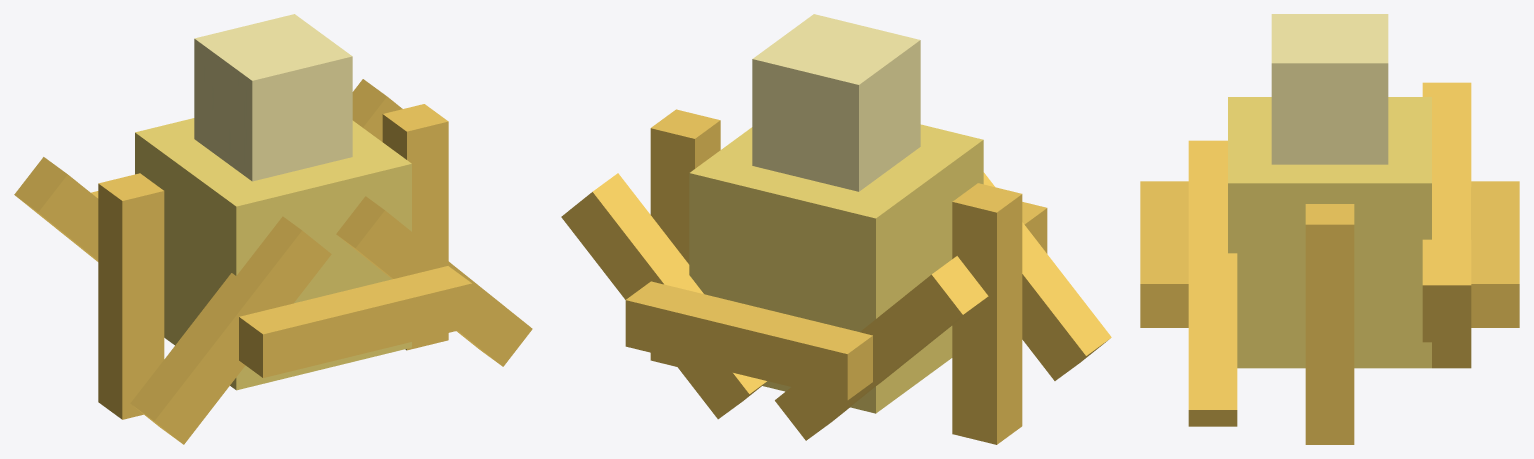
The model's file is blaze.glb.
3 renders of one model, left to right at view 1: azimuth 30°, elevation 25°; view 2: azimuth 150°, elevation 25°; view 3: azimuth 270°, elevation 25°, orthographic. The views are drawn at different scales.
Parts seen in each view (by area): view 1: core, core_hot, rodmesh_2, rodmesh_4, rodmesh_3, rodmesh_1, rodmesh_0, rodmesh_5, rodmesh_7; view 2: core, core_hot, rodmesh_6, rodmesh_4, rodmesh_7, rodmesh_5, rodmesh_3, rodmesh_0, rodmesh_2; view 3: core, core_hot, rodmesh_0, rodmesh_1, rodmesh_2, rodmesh_6, rodmesh_5, rodmesh_7, rodmesh_3.
Part boxes in pixels (left/top/right/bottom): core: left=135, top=118, right=411, bottom=390; core_hot: left=194, top=14, right=352, bottom=181; rodmesh_2: left=239, top=266, right=472, bottom=377; rodmesh_4: left=98, top=173, right=164, bottom=419; rodmesh_3: left=130, top=216, right=331, bottom=444; rodmesh_1: left=336, top=196, right=532, bottom=366; rodmesh_0: left=382, top=104, right=448, bottom=350; rodmesh_5: left=14, top=157, right=98, bottom=261; rodmesh_7: left=352, top=79, right=402, bottom=141; core: left=689, top=124, right=983, bottom=413; core_hot: left=752, top=14, right=920, bottom=191; rodmesh_6: left=625, top=281, right=872, bottom=400; rodmesh_4: left=952, top=183, right=1022, bottom=444; rodmesh_7: left=561, top=173, right=767, bottom=419; rodmesh_5: left=775, top=256, right=988, bottom=440; rodmesh_3: left=983, top=172, right=1111, bottom=380; rodmesh_0: left=650, top=109, right=720, bottom=366; rodmesh_2: left=1022, top=202, right=1047, bottom=253; core: left=1228, top=97, right=1431, bottom=368; core_hot: left=1271, top=14, right=1388, bottom=164; rodmesh_0: left=1305, top=204, right=1354, bottom=444; rodmesh_1: left=1188, top=181, right=1237, bottom=426; rodmesh_2: left=1140, top=181, right=1188, bottom=327; rodmesh_6: left=1471, top=181, right=1519, bottom=327; rodmesh_5: left=1422, top=82, right=1471, bottom=239; rodmesh_7: left=1422, top=239, right=1471, bottom=368; rodmesh_3: left=1188, top=140, right=1227, bottom=181.
Size of the model in its own units: 0.9051 by 0.74 by 0.78.
